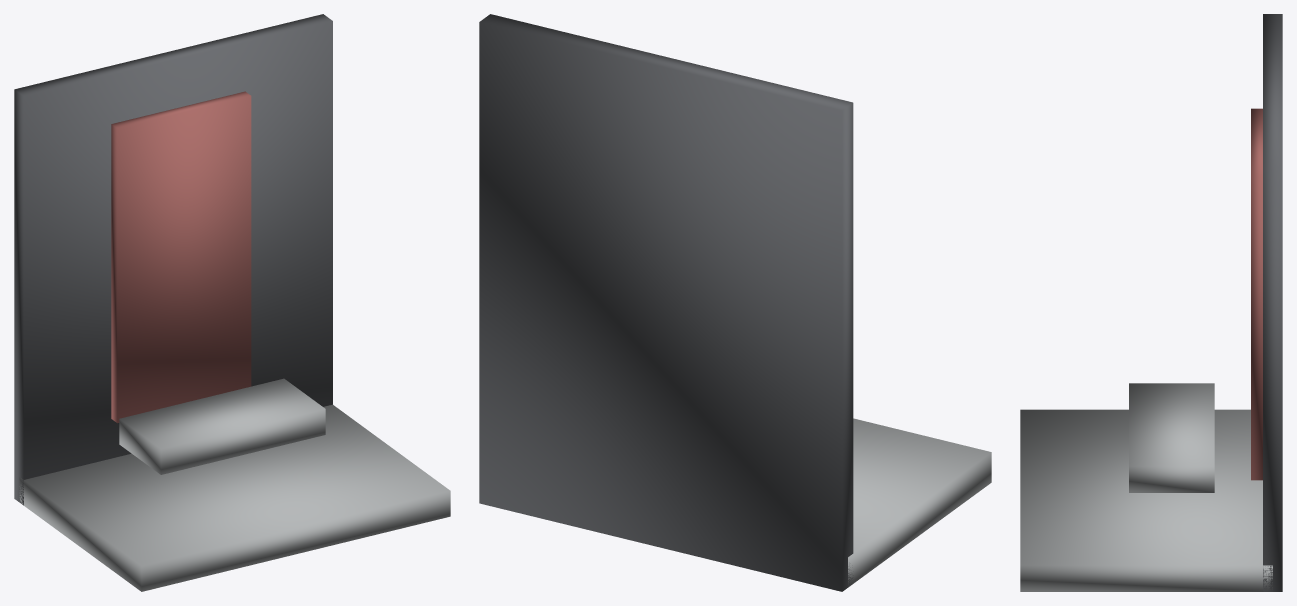
Rendered from roof_access_hatch_stair_11.glb.
3 views of the same model, side by side, from view 1: azimuth 30°, elevation 25°; view 2: azimuth 150°, elevation 25°; view 3: azimuth 270°, elevation 25° (orthographic). The views are drawn at different scales.
Parts seen in each view (by area): view 1: world; view 2: world; view 3: world.
Part boxes in pixels (bbox=[...]): world: bbox=[14, 14, 450, 591]; world: bbox=[479, 14, 991, 591]; world: bbox=[1020, 14, 1282, 591].
Size of the model in its own units: 1.5 by 1.9 by 1.07.
